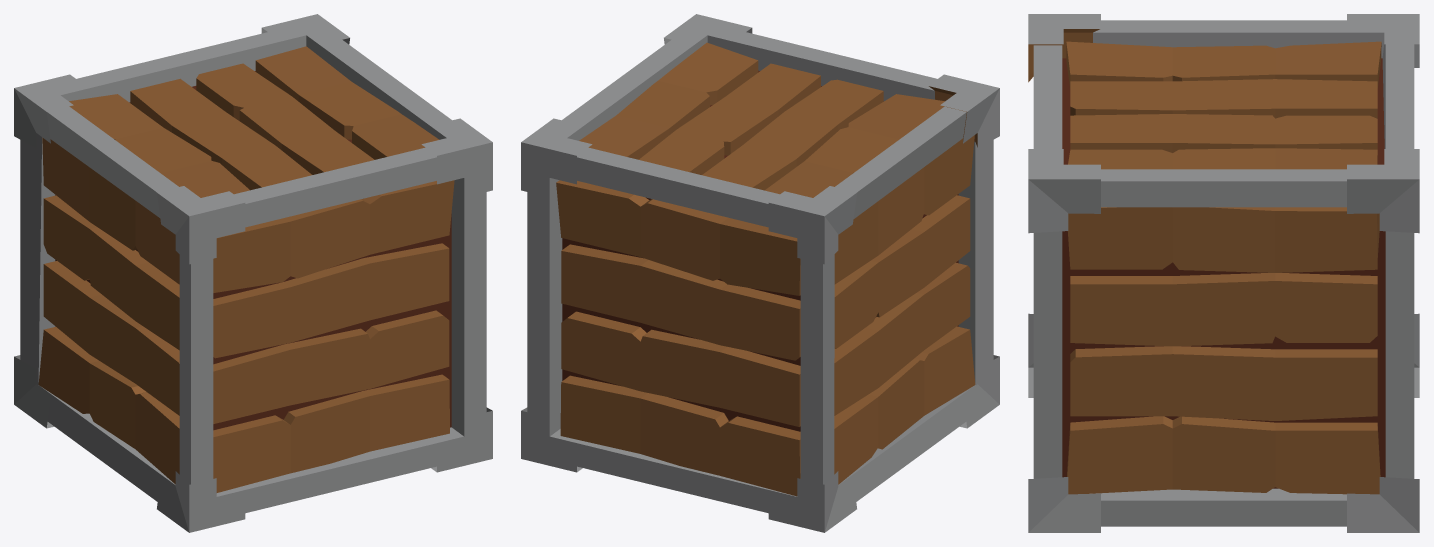
Rendered from caja-madera.glb.
3 views of the same model, side by side, from view 1: azimuth 30°, elevation 25°; view 2: azimuth 150°, elevation 25°; view 3: azimuth 270°, elevation 25° (orthographic). The views are drawn at different scales.
Visible parts, largest first — view 1: Caja; view 2: Caja; view 3: Caja.
Part boxes in pixels (left/top/right/bottom): Caja: left=14, top=14, right=492, bottom=532; Caja: left=521, top=14, right=999, bottom=532; Caja: left=1028, top=14, right=1419, bottom=532.
Size of the model in its own units: 2.18 by 2.17 by 2.18.
